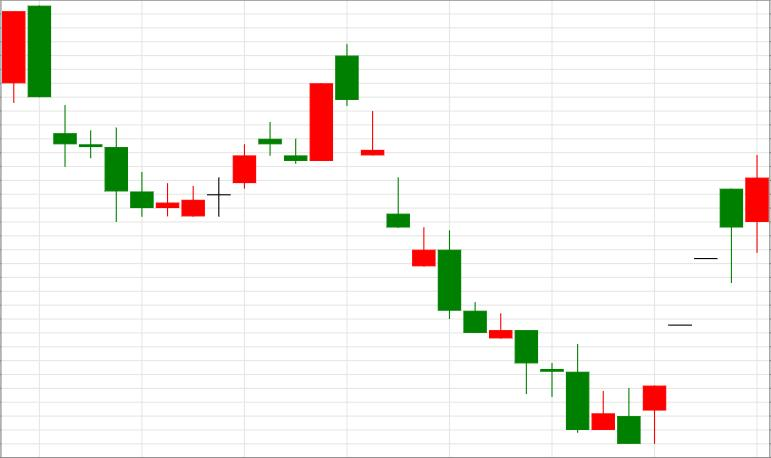hanging_man_fall: (618, 189, 742, 444)
